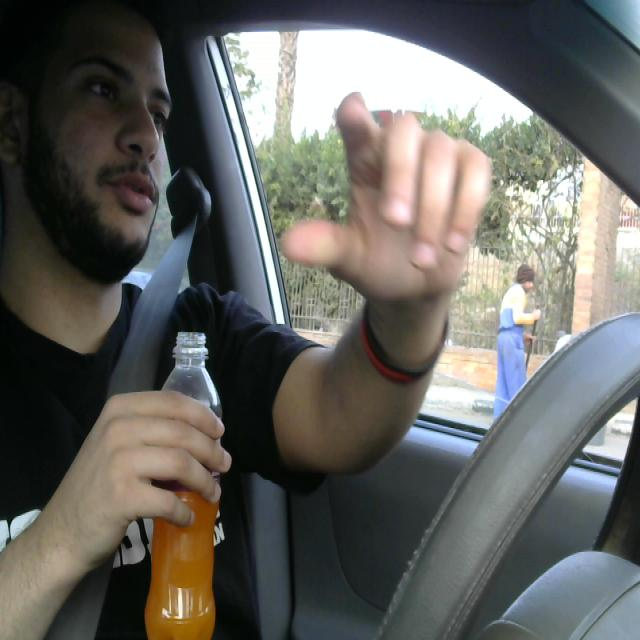drinking: (145, 321, 222, 640)
